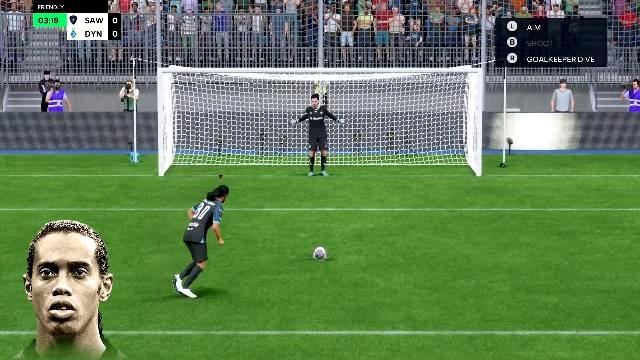bottom-left: (165, 130, 272, 176)
bottom-right: (371, 132, 475, 176)
center-down: (274, 130, 368, 176)
center-up: (271, 74, 367, 128)
football: (312, 249, 330, 260)
goalkeeper: (289, 94, 347, 180)
player: (174, 184, 236, 300)
top-left: (163, 74, 269, 130)
top-right: (370, 74, 478, 128)
